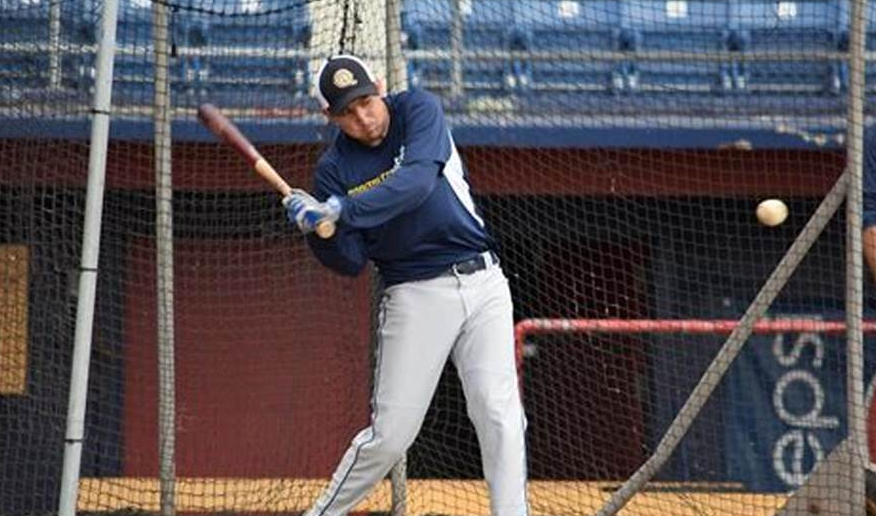ball: (754, 197, 789, 228)
